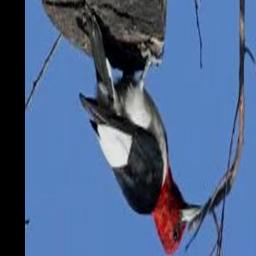Woodpecker: (80, 15, 202, 256)
